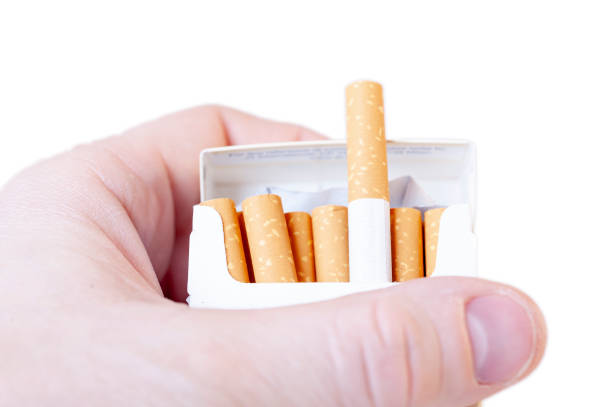cigarette: (185, 136, 479, 307), (344, 78, 393, 283), (239, 193, 297, 283), (197, 195, 250, 283), (310, 203, 350, 283), (391, 206, 425, 283), (284, 210, 316, 282), (424, 206, 448, 278)
